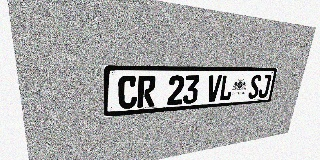2: (167, 75, 185, 105)
3: (182, 75, 200, 104)
C: (118, 75, 138, 109)
J: (257, 74, 272, 98)
L: (219, 75, 234, 101)
R: (137, 75, 156, 108)
S: (247, 75, 262, 99)
V: (206, 75, 222, 102)
